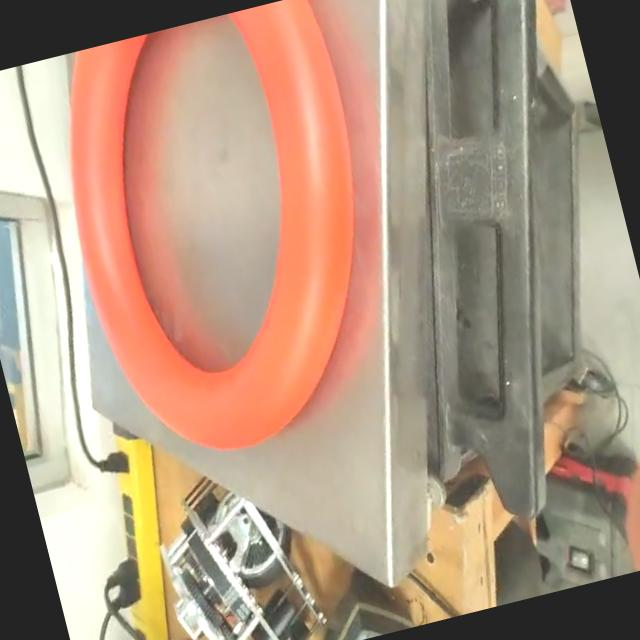note: (27, 0, 429, 482)
